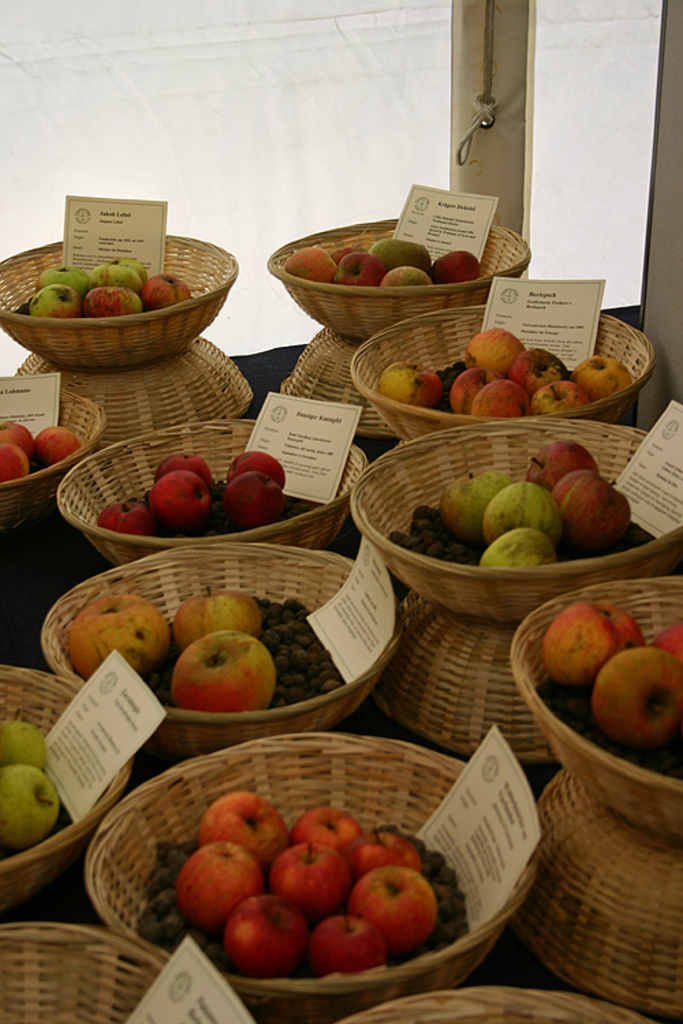Apple: (174, 786, 426, 976), (379, 330, 635, 417), (286, 232, 482, 289), (338, 846, 441, 950), (592, 644, 681, 749), (166, 628, 277, 711), (25, 263, 189, 319), (66, 596, 168, 677), (547, 596, 647, 677), (549, 472, 633, 544), (0, 756, 61, 851), (169, 585, 259, 648), (475, 483, 558, 546), (439, 471, 504, 535), (146, 472, 210, 531), (530, 443, 605, 490), (482, 531, 561, 569), (219, 473, 277, 524), (0, 711, 43, 768), (151, 449, 210, 481), (224, 451, 286, 481), (31, 425, 79, 461), (99, 501, 146, 536), (0, 442, 34, 483), (657, 623, 681, 663), (0, 421, 28, 454)
